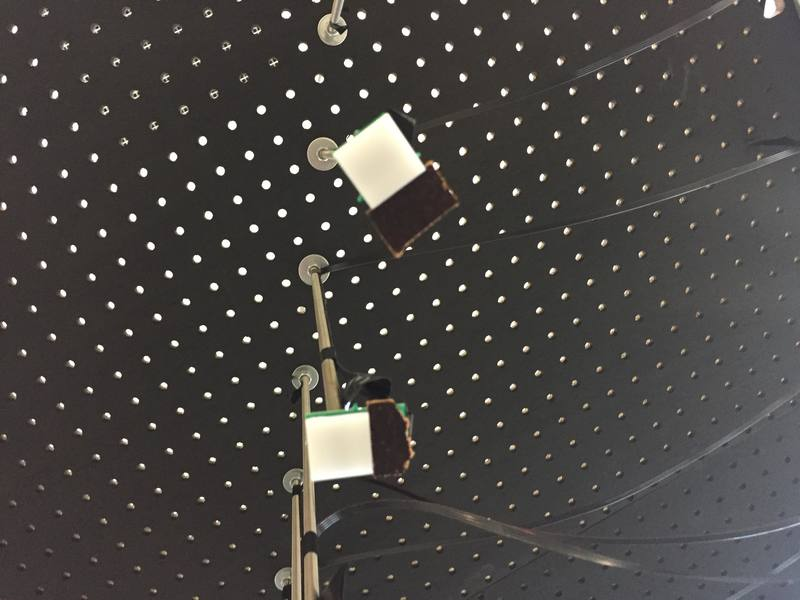target: (331, 112, 429, 212), (304, 412, 375, 481)
